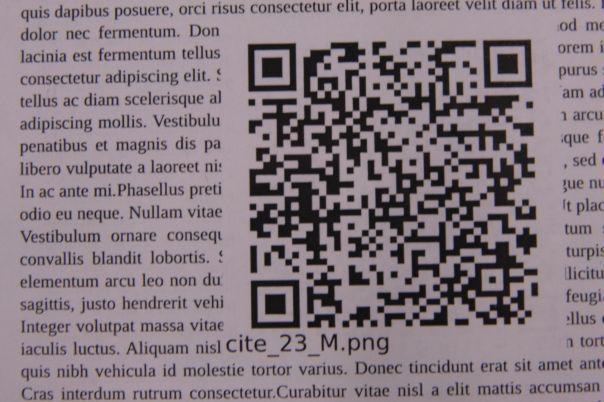Finder pattern: (243, 39, 302, 97), (247, 277, 304, 332), (480, 38, 536, 92)
